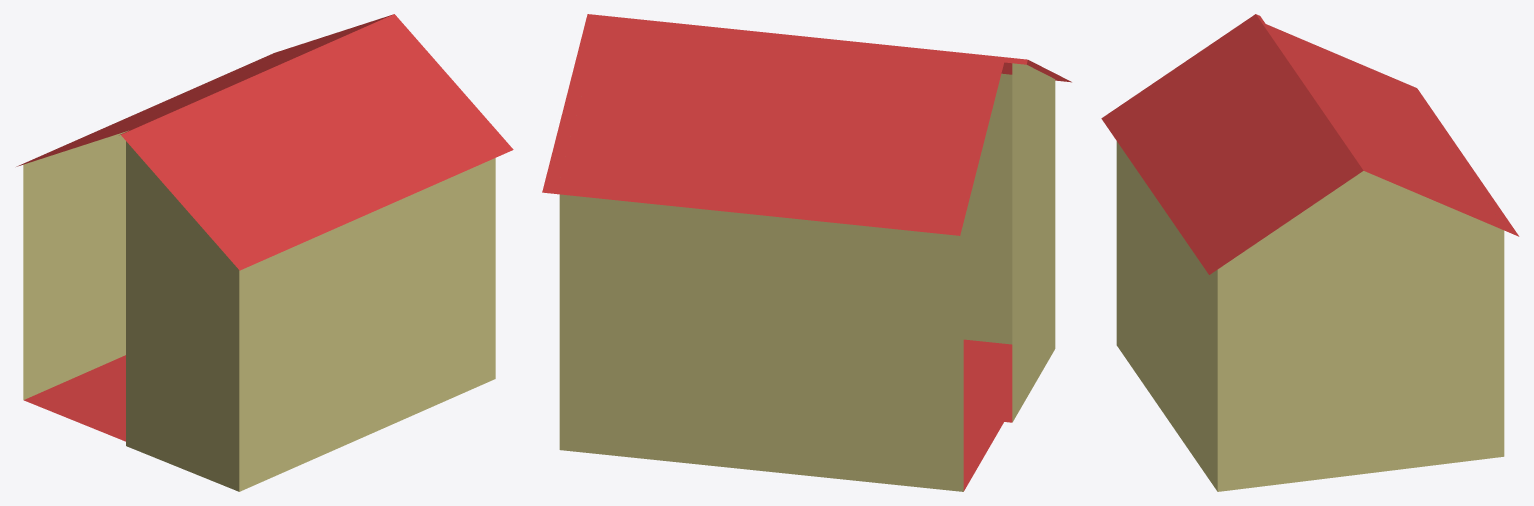
3 views of the same model, side by side, from view 1: azimuth 30°, elevation 25°; view 2: azimuth 150°, elevation 25°; view 3: azimuth 270°, elevation 25° (orthographic). The views are drawn at different scales.
Size of the model in its own units: 8.9 by 8.41 by 6.85.
